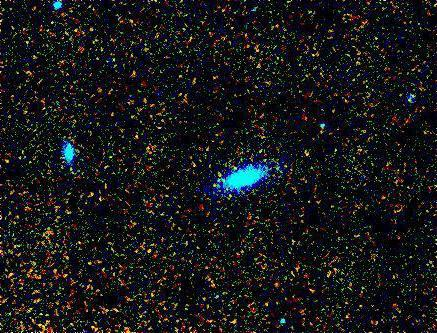star: (142, 135, 172, 165)
